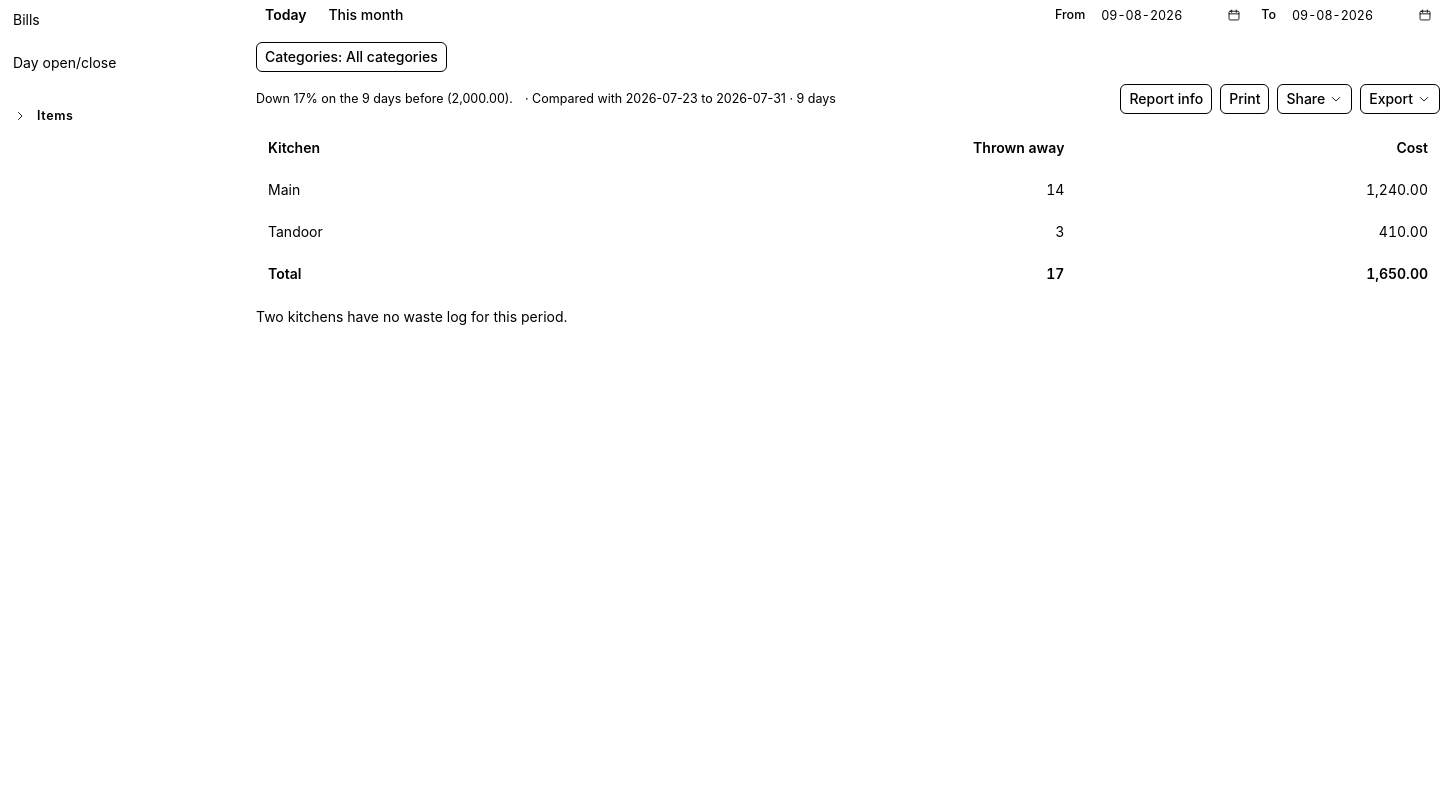
blocks output while a new selection loads and ignores an older response
What coordinates should you click on to do the following:
click the button with aria-label "Select categories"
I would click on:
 (351, 57)
Its box is [256,42,447,72].
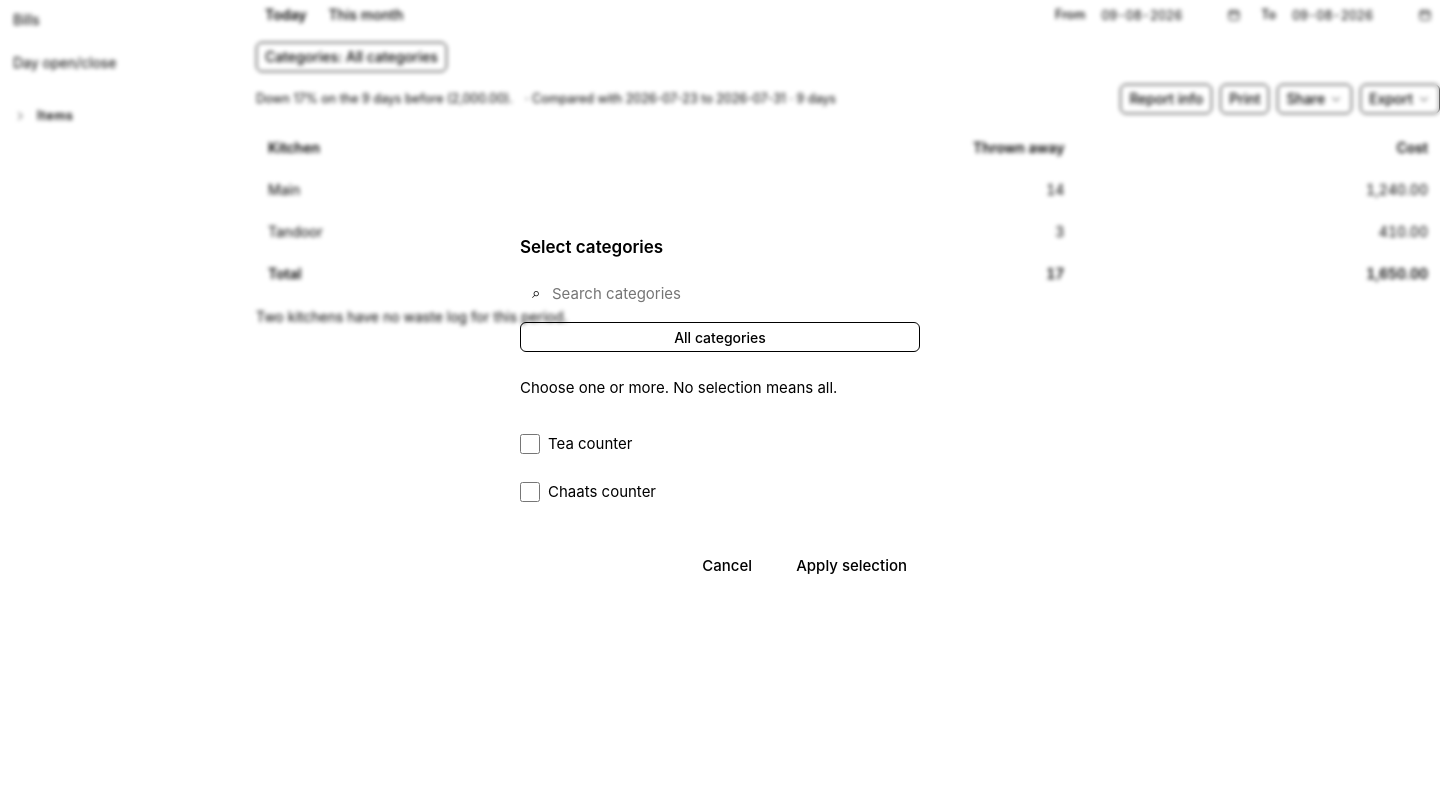
What coordinates should you click on to do the following:
click the checkbox labelled "Tea counter"
I would click on:
 (530, 444)
Its box is [520,434,540,454].
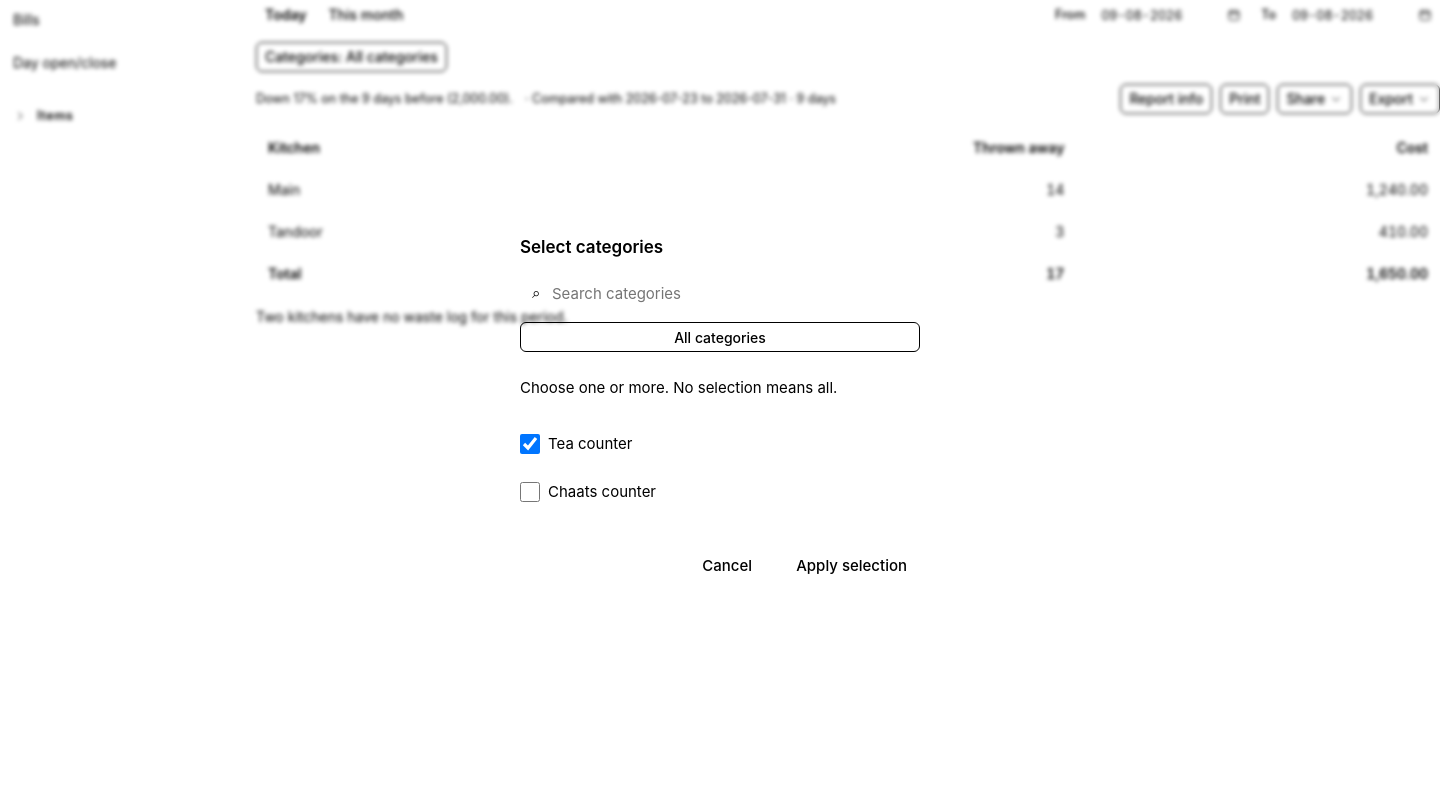
What coordinates should you click on to do the following:
click the button "Apply selection"
I would click on:
 (852, 566)
Its box is [783,547,920,585].
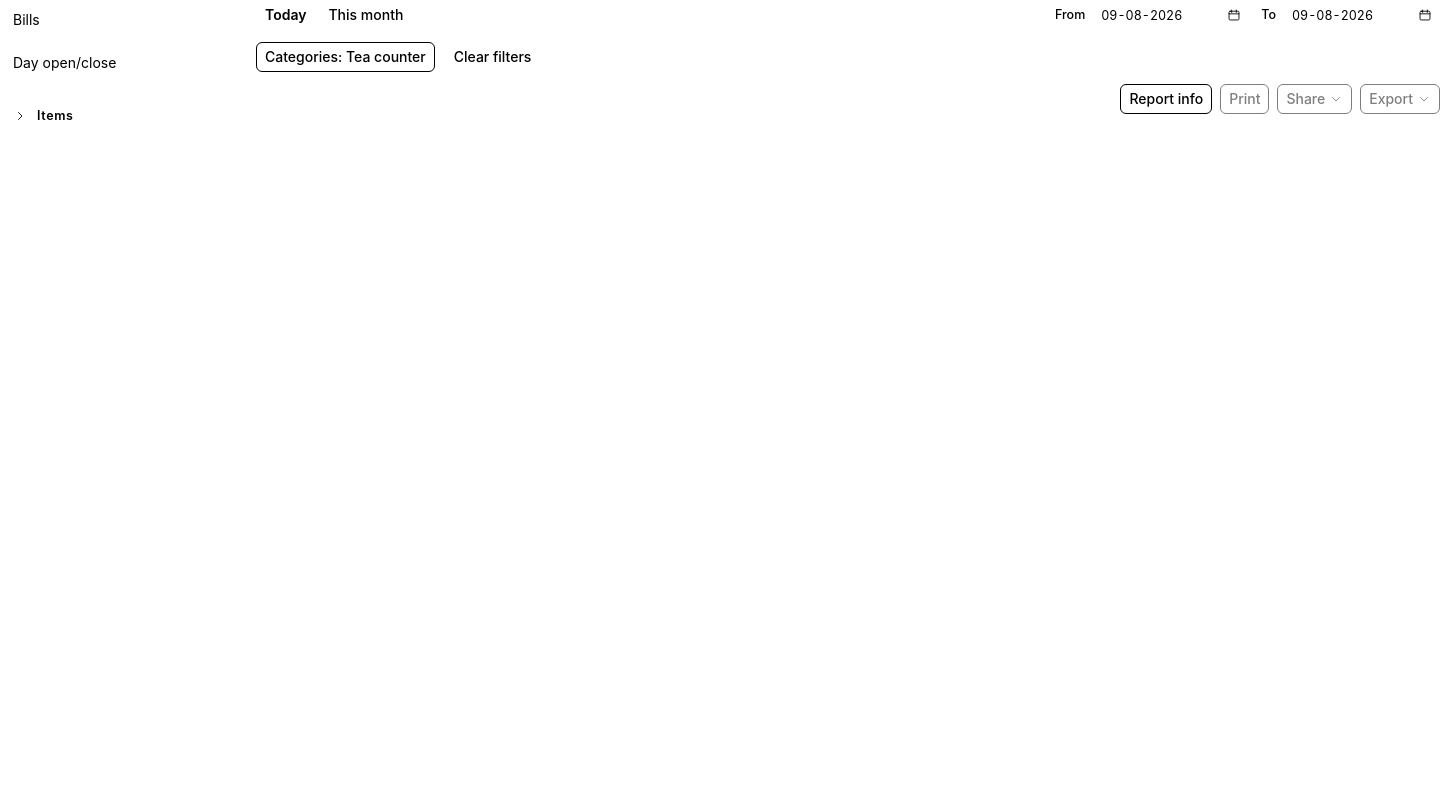
Check: the button "Print" is disabled, box [1220,84,1269,114]
Check: the button "Export" is disabled, box [1360,84,1439,114]
Check: the button "Share" is disabled, box [1277,84,1352,114]
What coordinates should you click on to do the following:
click the button with aria-label "Select categories"
I would click on:
 (345, 57)
Its box is [256,42,435,72].
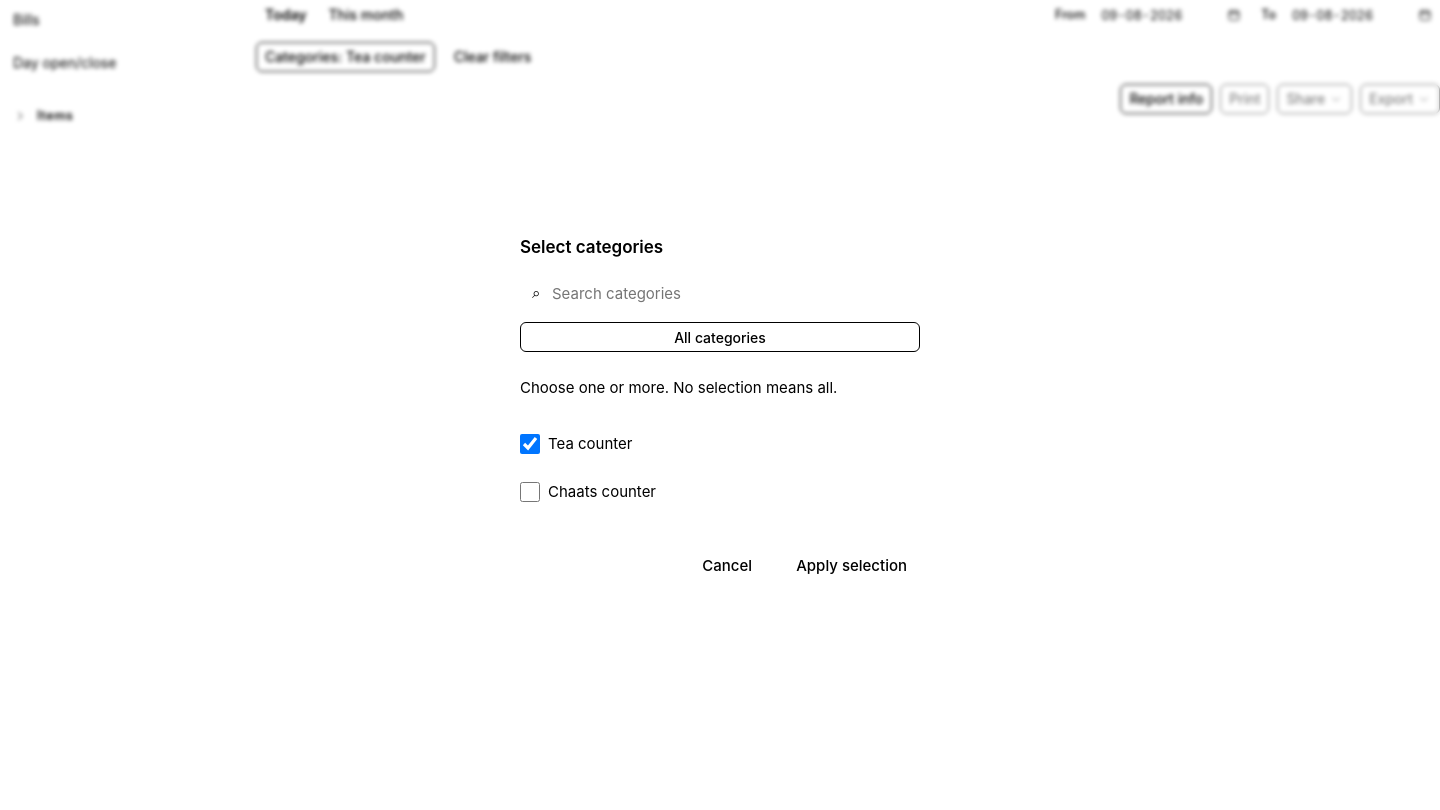
What coordinates should you click on to do the following:
click the checkbox labelled "Chaats counter"
I would click on:
 (530, 492)
Its box is [520,482,540,502].
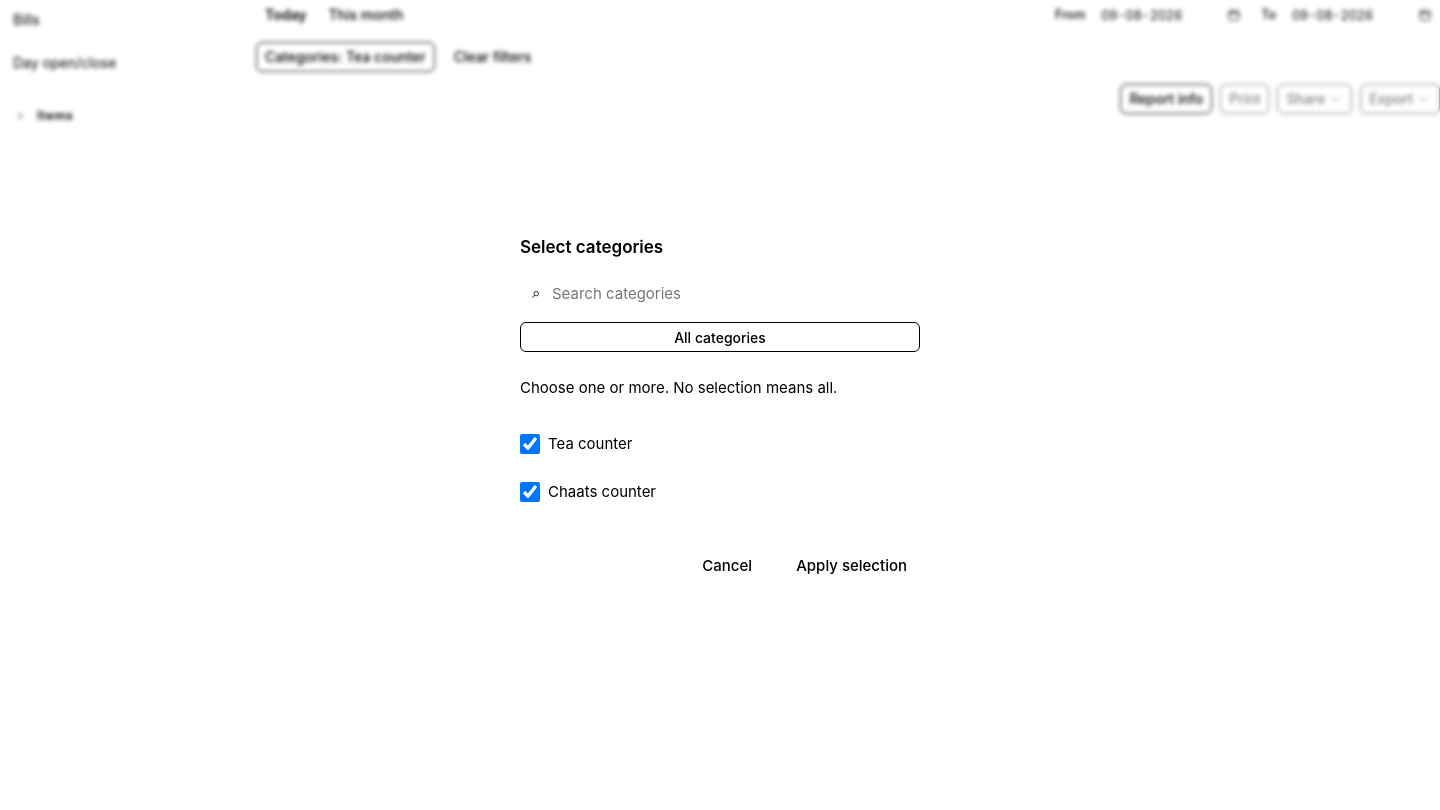
What coordinates should you click on to do the following:
click the button "Apply selection"
I would click on:
 (852, 566)
Its box is [783,547,920,585].
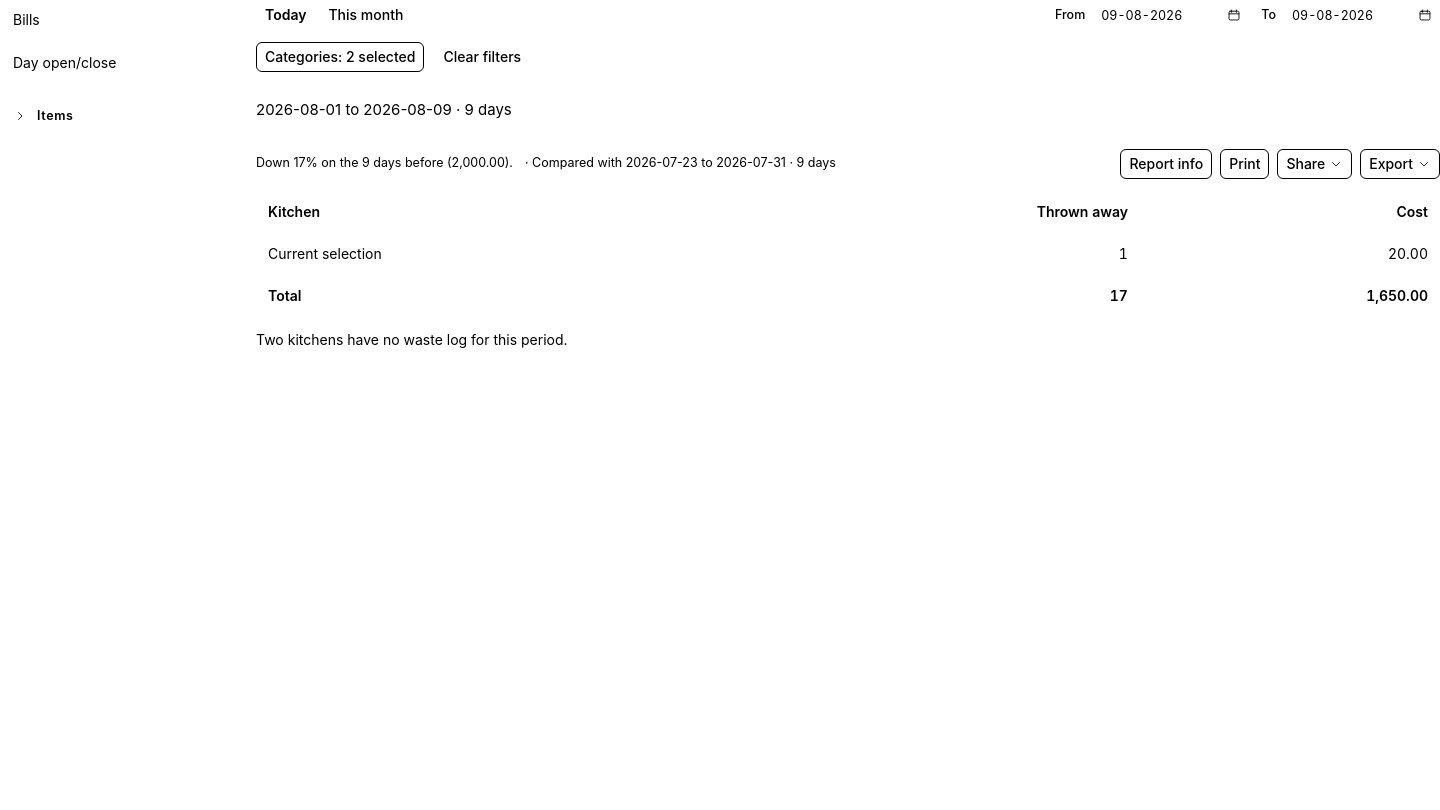
Check: the text "Current selection" is shown, box [256,232,737,274]
Check: the button "Print" is enabled, box [1220,148,1269,178]
